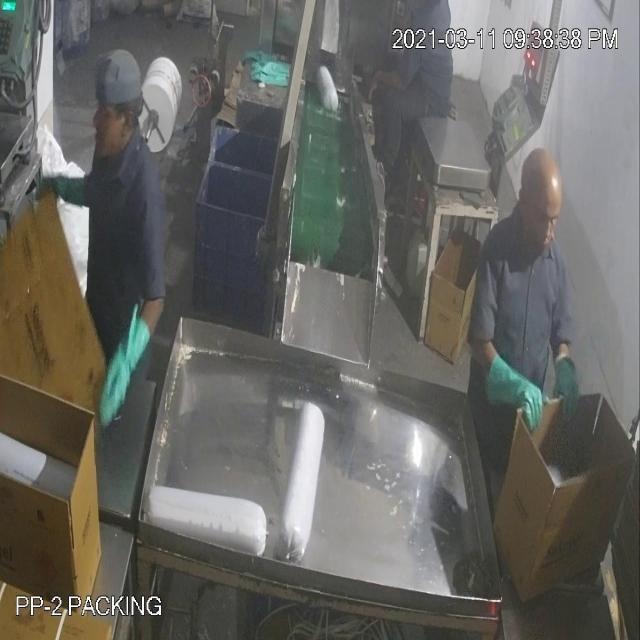No_Gloves: (43, 50, 568, 389)
